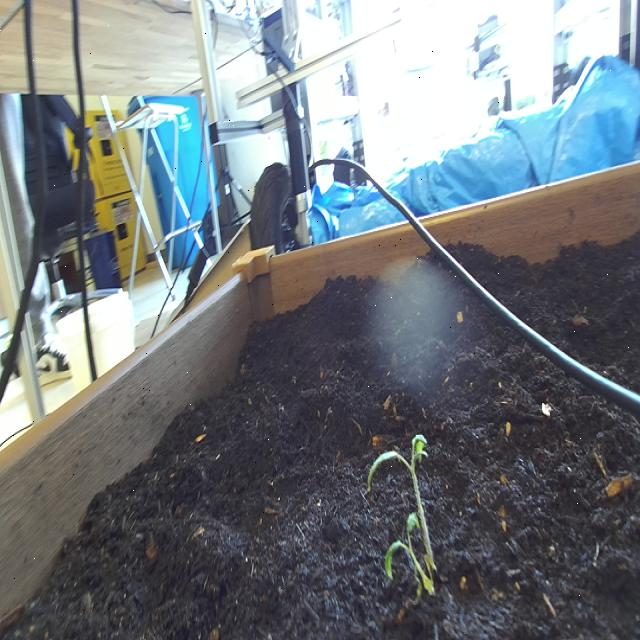Healthy: (357, 406, 459, 615)
